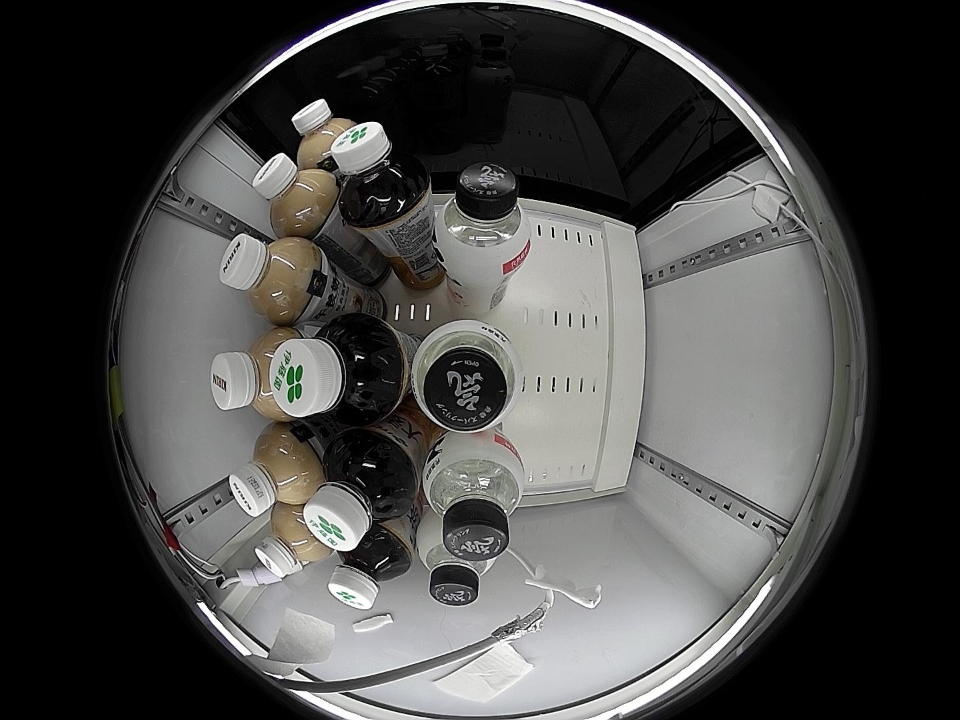damaicha: (272, 314, 405, 424), (304, 427, 417, 551), (331, 120, 429, 227), (328, 527, 412, 611)
wuhounaicha: (219, 233, 317, 327), (229, 422, 321, 517), (211, 327, 299, 420), (253, 152, 340, 238), (255, 507, 330, 580), (291, 98, 357, 168)
yuanqishui: (421, 434, 526, 561), (411, 321, 523, 433), (432, 161, 533, 279), (418, 525, 497, 606)
